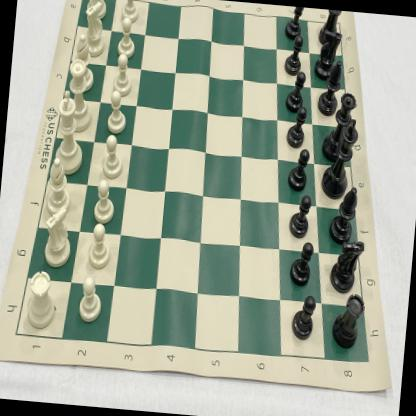bishop: (330, 183, 361, 244), (45, 158, 74, 216), (317, 60, 345, 116), (72, 32, 98, 92)
king: (320, 117, 361, 200), (52, 90, 89, 176)
knight: (328, 237, 366, 292), (42, 206, 74, 268), (81, 1, 108, 58), (315, 28, 344, 80)
pawn: (74, 274, 105, 324), (290, 295, 318, 343), (286, 194, 313, 240), (290, 240, 314, 289), (88, 223, 113, 270), (286, 148, 311, 192), (101, 134, 125, 179), (92, 180, 116, 224), (106, 90, 129, 135), (116, 17, 139, 60), (286, 70, 308, 113), (286, 106, 308, 149), (112, 53, 134, 96), (284, 34, 304, 76), (284, 6, 306, 42), (120, 0, 141, 26)
queen: (322, 91, 358, 163), (63, 58, 96, 133)
rook: (331, 291, 367, 350), (24, 270, 58, 330), (318, 9, 343, 47), (86, 0, 110, 22)
